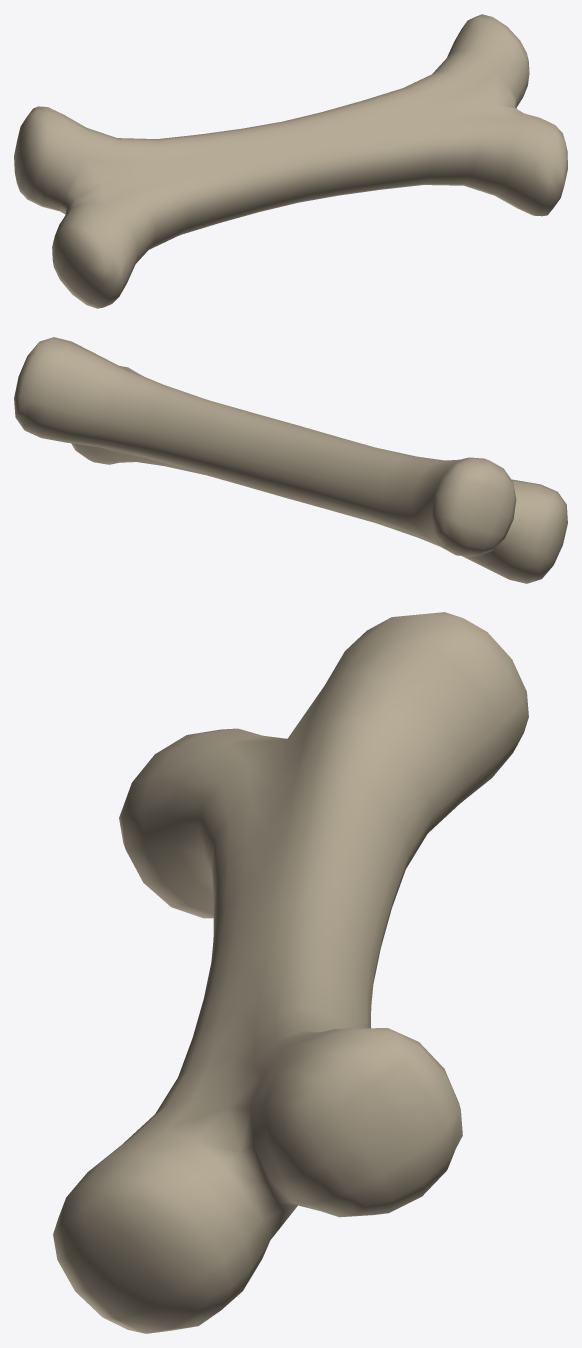
File: bone.fbx
The picture shows the model from 3 angles, top to bottom: view 1: azimuth 30°, elevation 25°; view 2: azimuth 150°, elevation 25°; view 3: azimuth 270°, elevation 25°; orthographic projection. The views are drawn at different scales.
Parts seen in each view (by area): view 1: Cube; view 2: Cube; view 3: Cube.
Boxes of the visible parts, box(x1,y1,x2,y2) form: Cube: box(14, 14, 567, 308); Cube: box(14, 337, 567, 583); Cube: box(53, 612, 528, 1333).
Bounding box in the file's own units: 170 × 50.7 × 71.64.
